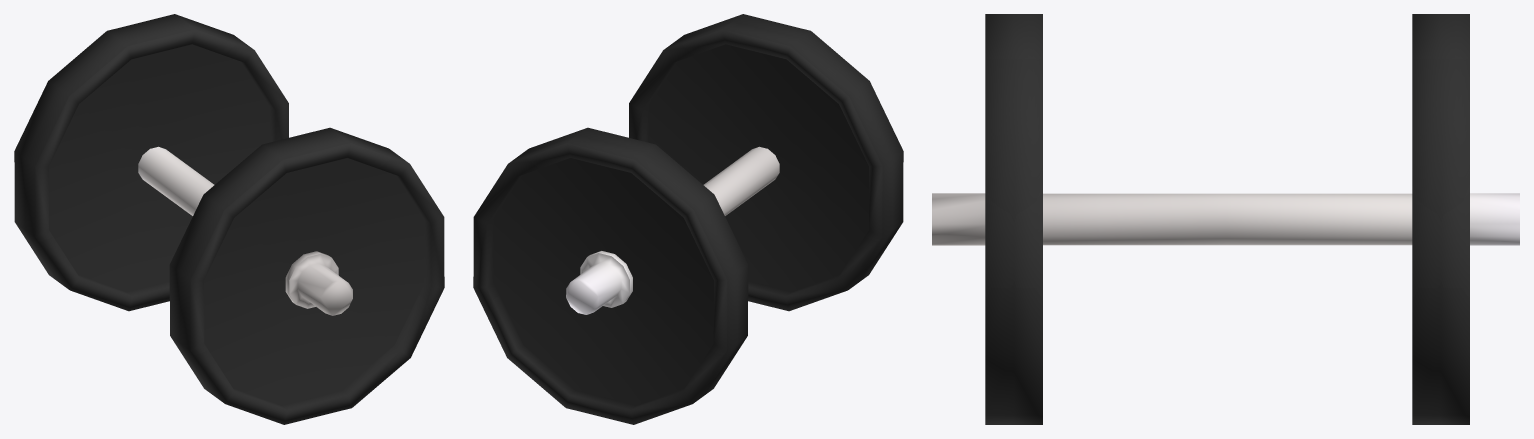
The model's file is Dumbell.glb.
The picture shows the model from 3 angles, left to right: view 1: azimuth 30°, elevation 25°; view 2: azimuth 150°, elevation 25°; view 3: azimuth 270°, elevation 25°; orthographic projection. The views are drawn at different scales.
Visible parts, largest first — view 1: Dumbell; view 2: Dumbell; view 3: Dumbell.
Boxes of the visible parts, bbox=[...] form: Dumbell: bbox=[14, 14, 444, 424]; Dumbell: bbox=[473, 14, 903, 424]; Dumbell: bbox=[932, 14, 1519, 424].
Bounding box in the file's own units: 0.1744 × 0.1744 × 0.2542.
Materials: 2 (2 with a texture image).
